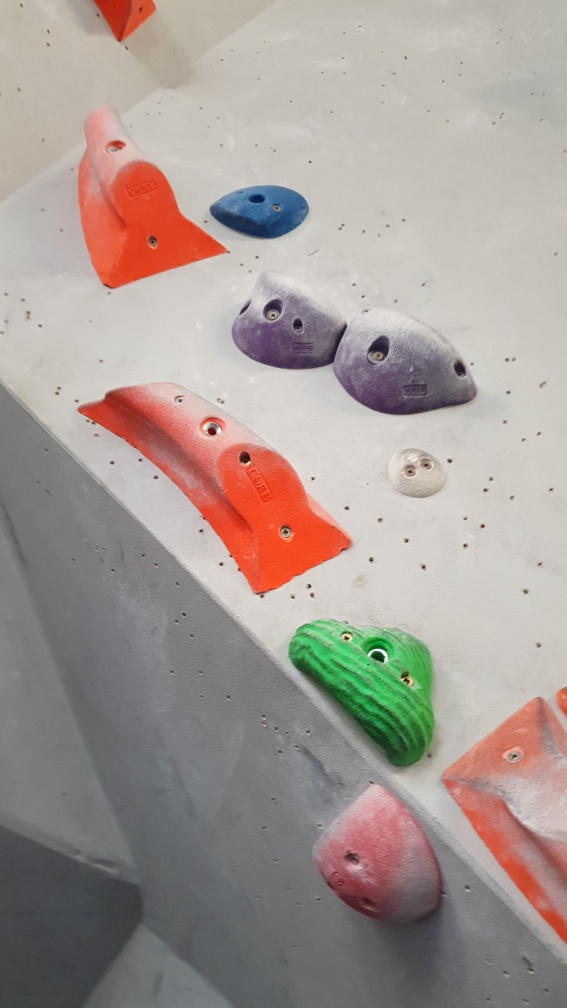Jug: (287, 613, 439, 772), (335, 307, 481, 414), (232, 268, 346, 370)
Pinch: (71, 380, 355, 597), (439, 692, 567, 942), (72, 101, 231, 291)
Sloper: (313, 777, 450, 930)
